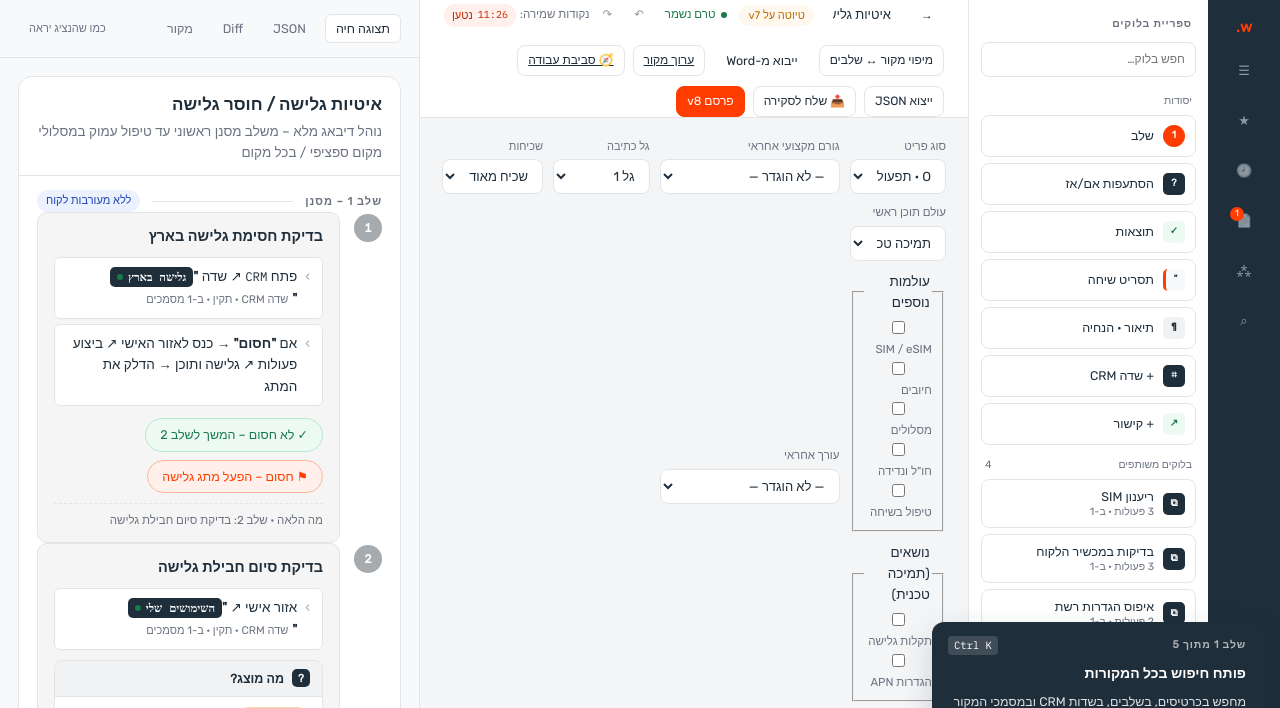
Test case: parity · editor quick commands (gap) › picks a CRM field into an action instead of asking for its exact name
Click the text "+ שדה CRM": point(1122, 376) [1090,366,1154,386]
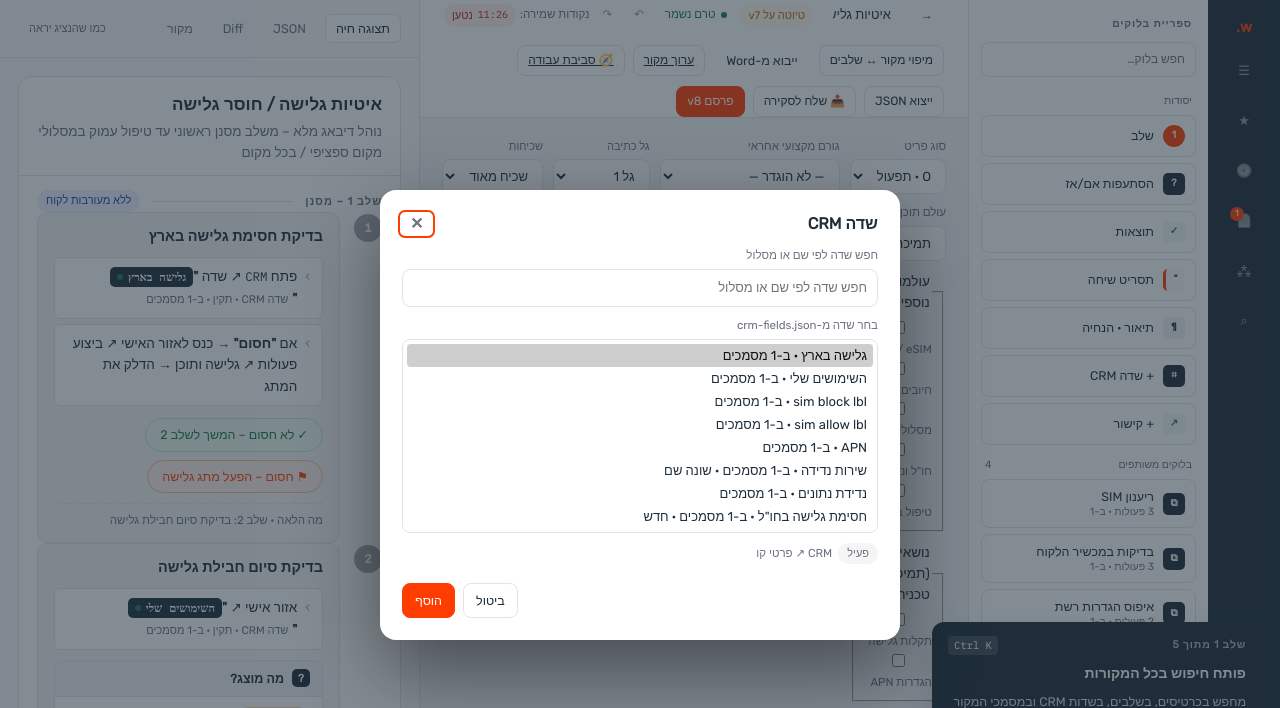
Select "sim block lbl · ב-1 מסמכים" in the dropdown labelled "בחר שדה מ-crm-fields.json": point(640, 436) [402,339,878,533]
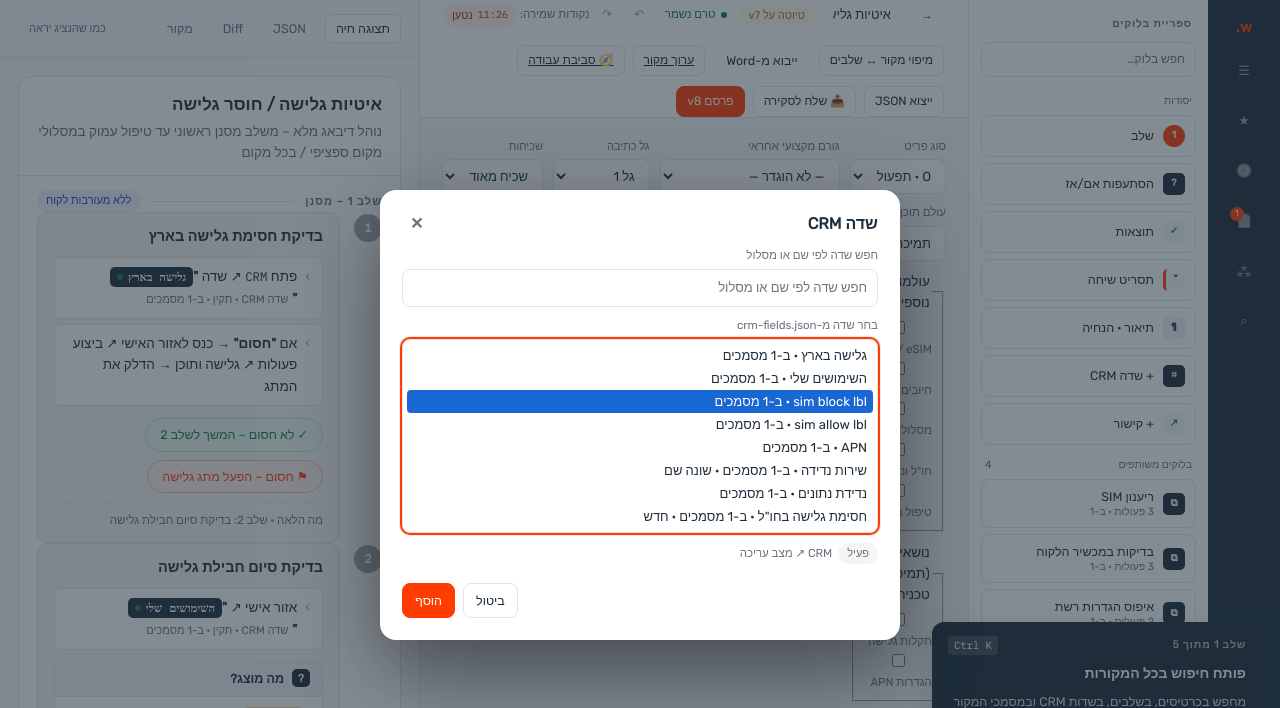
Click the button "הוסף": point(428, 600) [402,583,455,618]
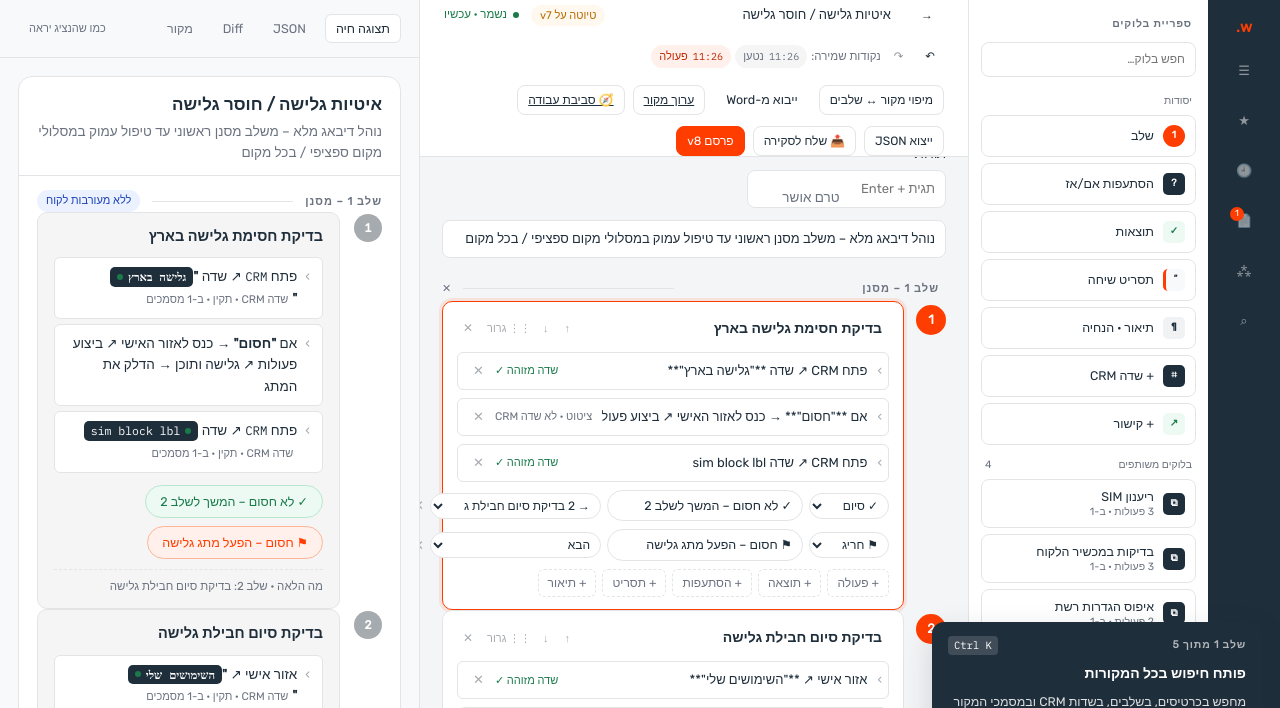
Now the field showing "פתח CRM ↗ שדה sim block lbl" is shown, box [564,449,871,477]
